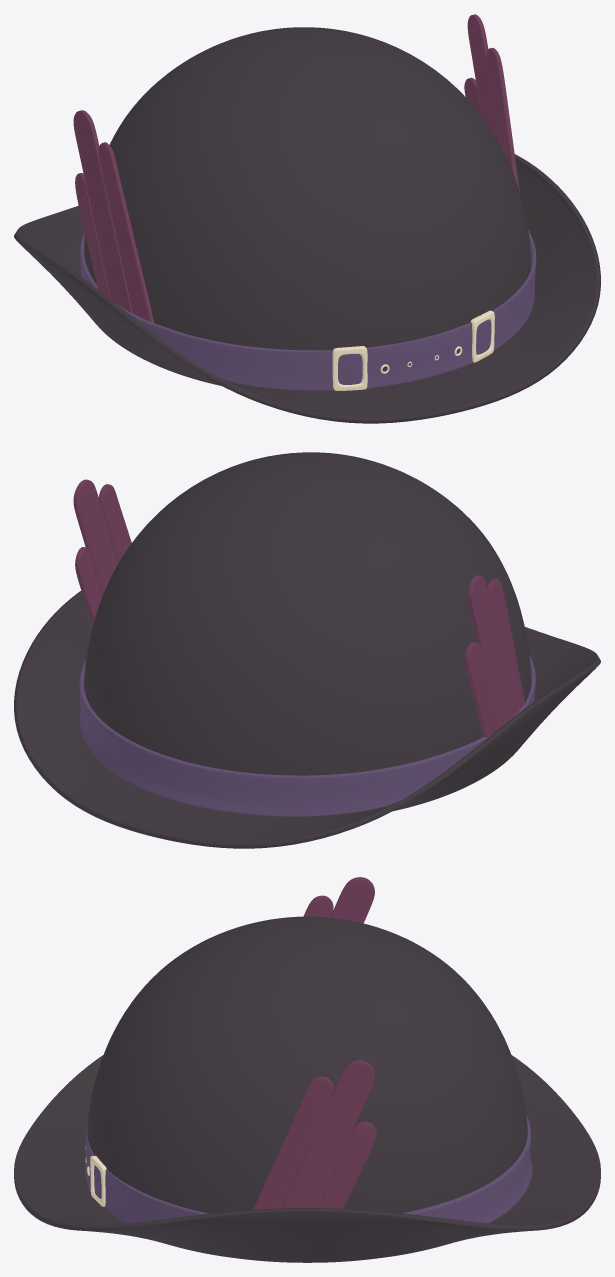
File: saw_hat.glb
3 renders of one model, top to bottom at view 1: azimuth 30°, elevation 25°; view 2: azimuth 150°, elevation 25°; view 3: azimuth 270°, elevation 25°, orthographic. The views are drawn at different scales.
Parts seen in each view (by area): view 1: Object_2, Object_5, Object_6, Object_3; view 2: Object_2, Object_5, Object_6; view 3: Object_2, Object_6, Object_5, Object_3.
Part boxes in pixels (x1,y1,x2,y2): Object_2: [14, 27, 600, 423]; Object_5: [80, 229, 536, 390]; Object_6: [73, 14, 519, 322]; Object_3: [332, 310, 494, 390]; Object_2: [14, 452, 600, 848]; Object_5: [79, 656, 535, 816]; Object_6: [73, 479, 524, 737]; Object_2: [14, 916, 600, 1262]; Object_6: [253, 877, 376, 1209]; Object_5: [85, 1116, 532, 1223]; Object_3: [90, 1155, 106, 1206].
Bounding box in the file's own units: 2.4 × 1.25 × 2.78.
